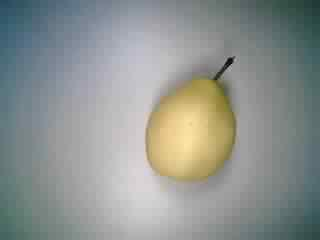pear: (139, 49, 244, 185)
